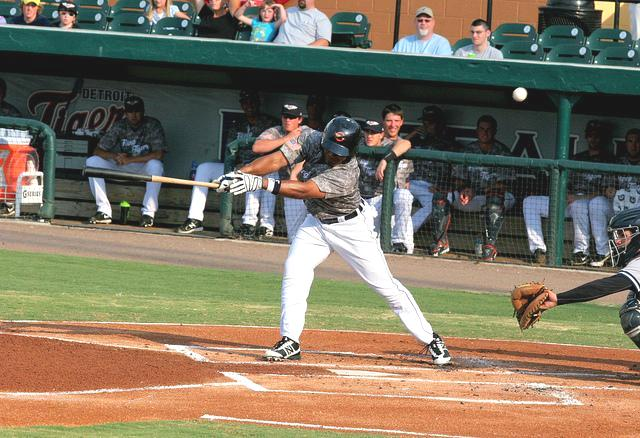baseball bat: (82, 164, 220, 190)
